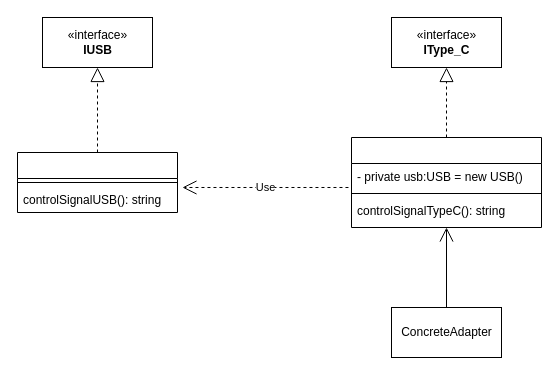
The diagram is 559 pixels wide and 375 high, and some of its shapes have lost their labels. Here are the shapes that lost their labels. From the top down, the box of each, then its label:
(16, 152, 178, 212): Classname
(350, 136, 542, 228): TypeCToUSBAdapter
